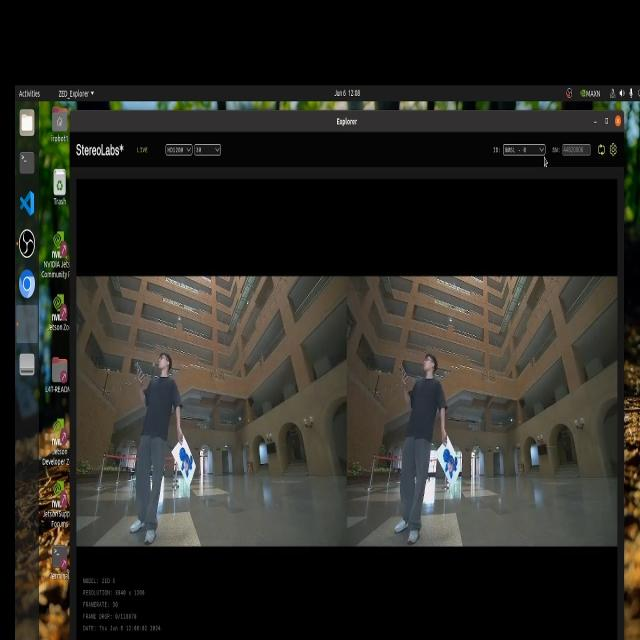blue: (442, 446, 462, 484), (178, 444, 199, 475)
